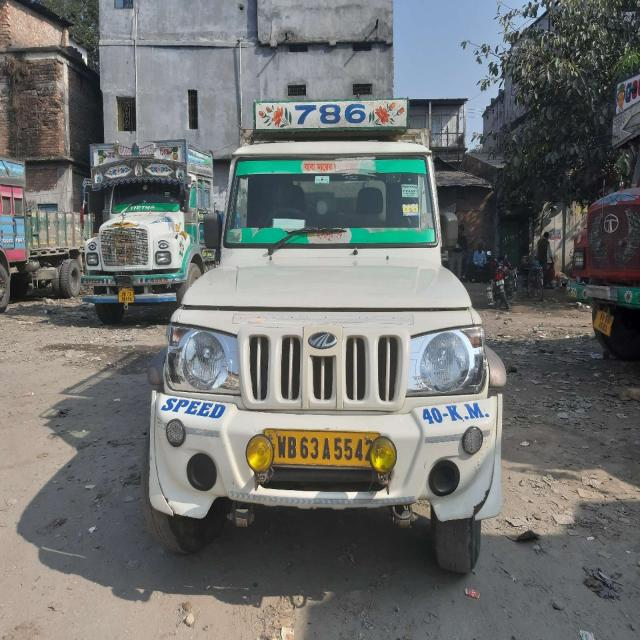light_vehicle: (147, 144, 498, 518)
